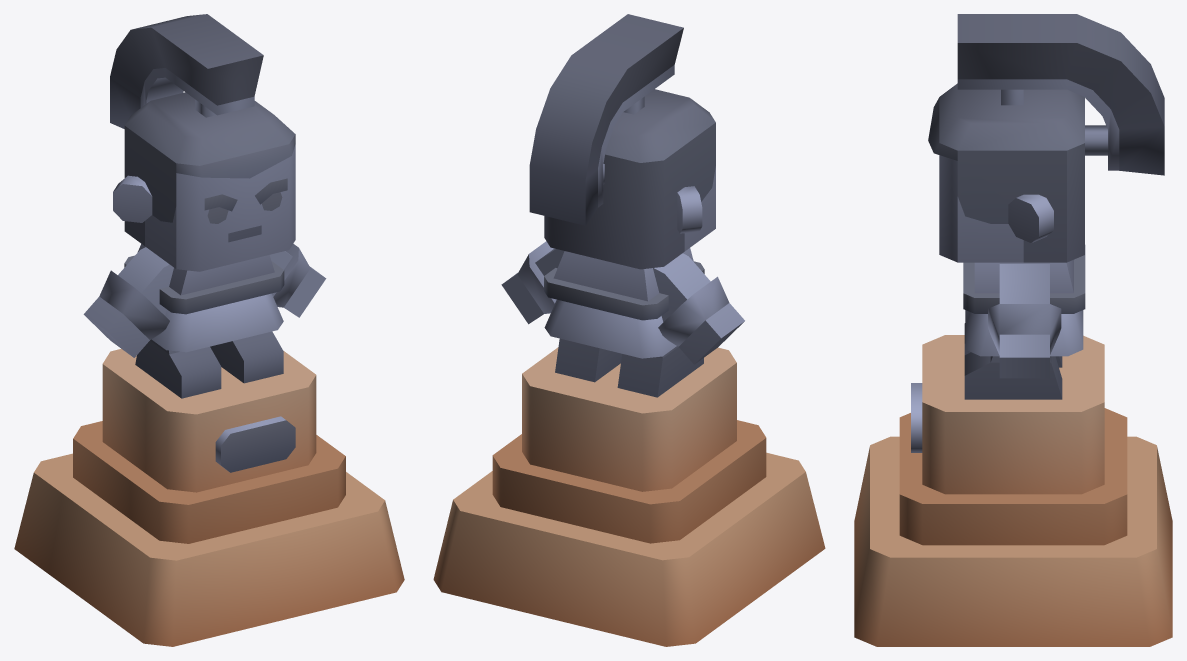
The model's file is statue.glb.
3 renders of one model, left to right at view 1: azimuth 30°, elevation 25°; view 2: azimuth 150°, elevation 25°; view 3: azimuth 270°, elevation 25°, orthographic. The views are drawn at different scales.
Visible parts, largest first — view 1: statue; view 2: statue; view 3: statue.
Part boxes in pixels (x1,y1,x2,y2): statue: (14,14,404,646); statue: (433,14,825,646); statue: (854,14,1172,646).
Bounding box in the file's own units: 0.7001 × 1.34 × 0.7001.
